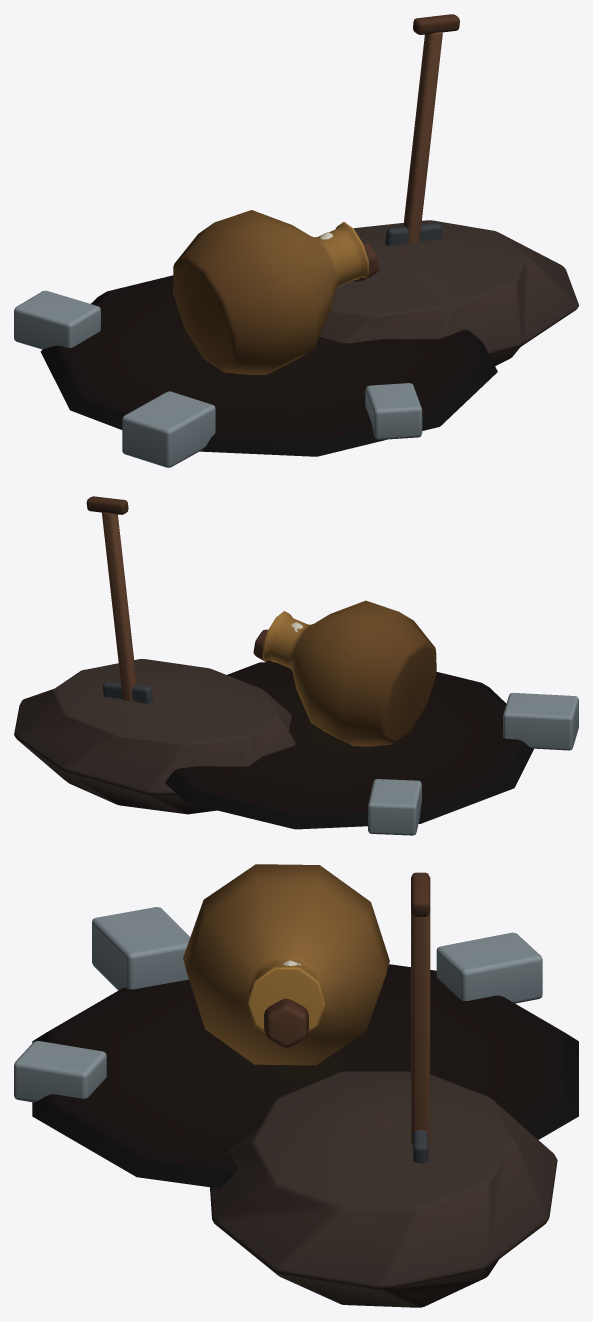
The model's file is field_bottle.glb.
3 views of the same model, one above another, from view 1: azimuth 30°, elevation 25°; view 2: azimuth 150°, elevation 25°; view 3: azimuth 270°, elevation 25° (orthographic). The views are drawn at different scales.
Visible parts, largest first — view 1: field_bottle; view 2: field_bottle; view 3: field_bottle.
Boxes of the visible parts, <box> form: field_bottle: <box>14,14,578,467</box>; field_bottle: <box>14,496,578,835</box>; field_bottle: <box>14,864,578,1307</box>.
Size of the model in its own units: 2 by 1.17 by 1.47.
